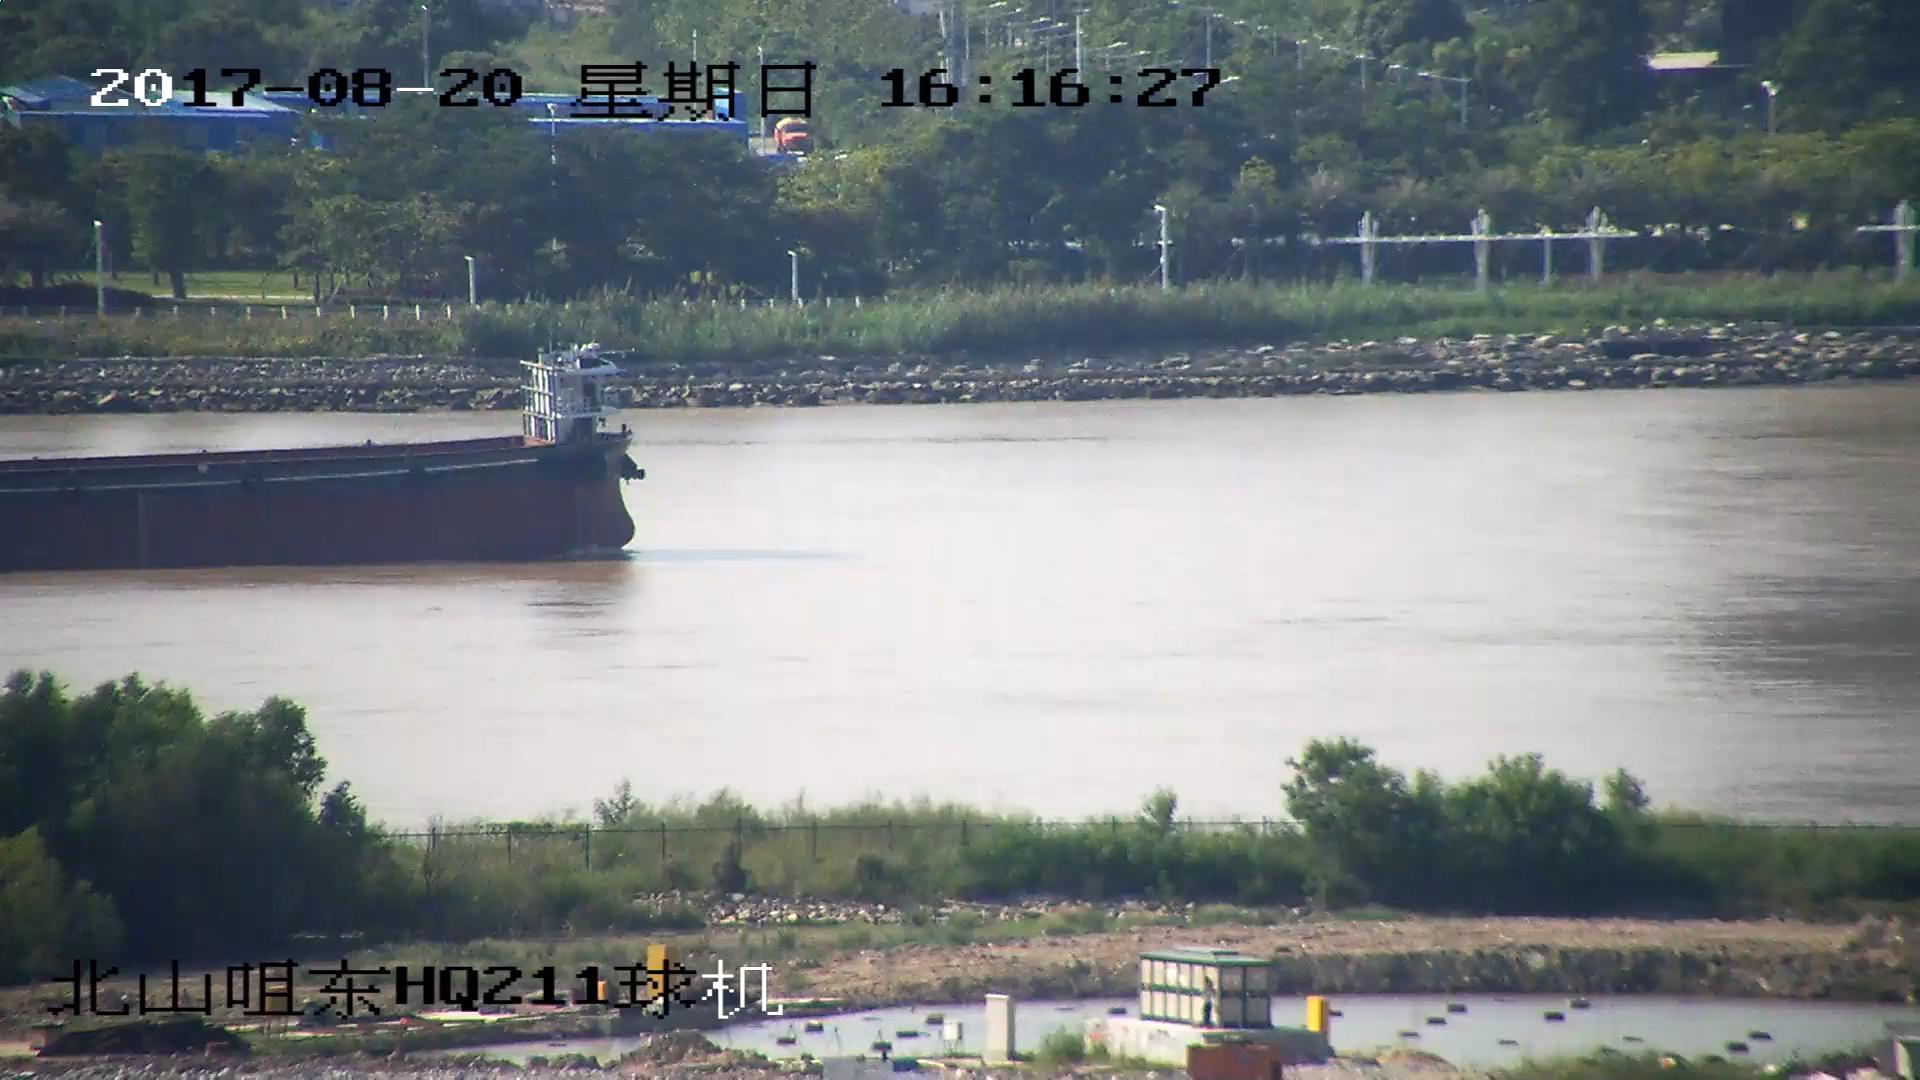Ship: (3, 363, 644, 568)
